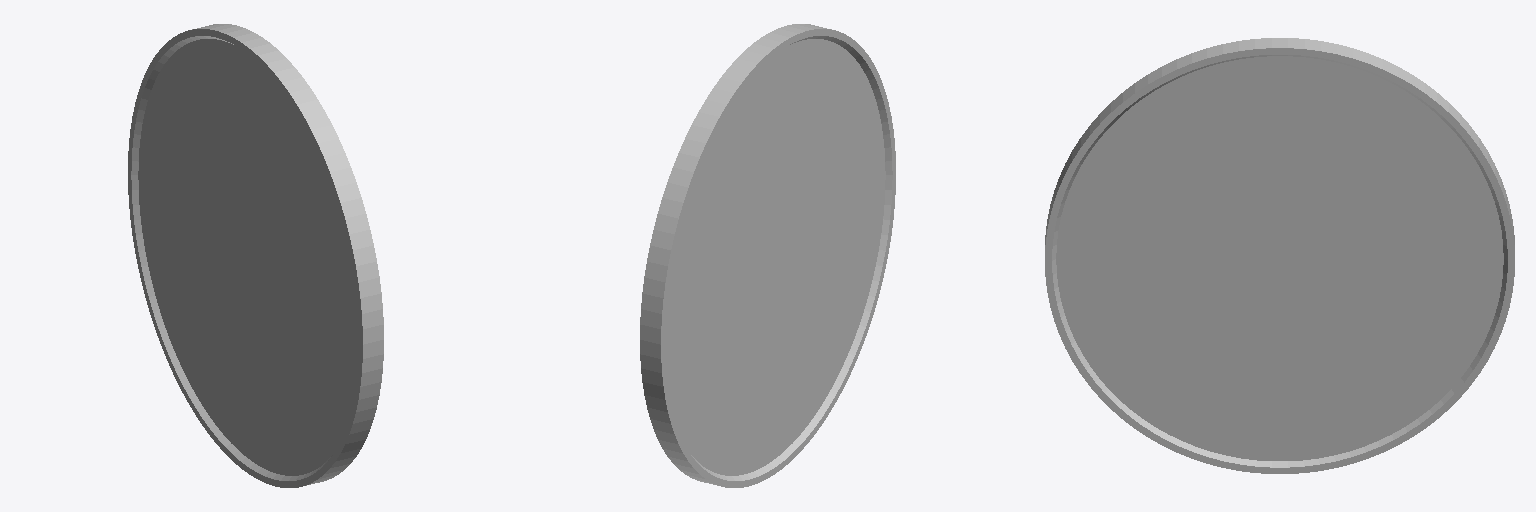
File: dogecoin.obj
3 views of the same model, side by side, from view 1: azimuth 30°, elevation 25°; view 2: azimuth 150°, elevation 25°; view 3: azimuth 270°, elevation 25° (orthographic).
Visible parts, largest first — view 1: dogecoin; view 2: dogecoin; view 3: dogecoin.
Part boxes in pixels (x1,y1,x2,y2): dogecoin: (128, 24, 383, 487); dogecoin: (640, 24, 895, 487); dogecoin: (1045, 38, 1514, 473).
Bounding box in the file's own units: 8.57 × 165 × 165.